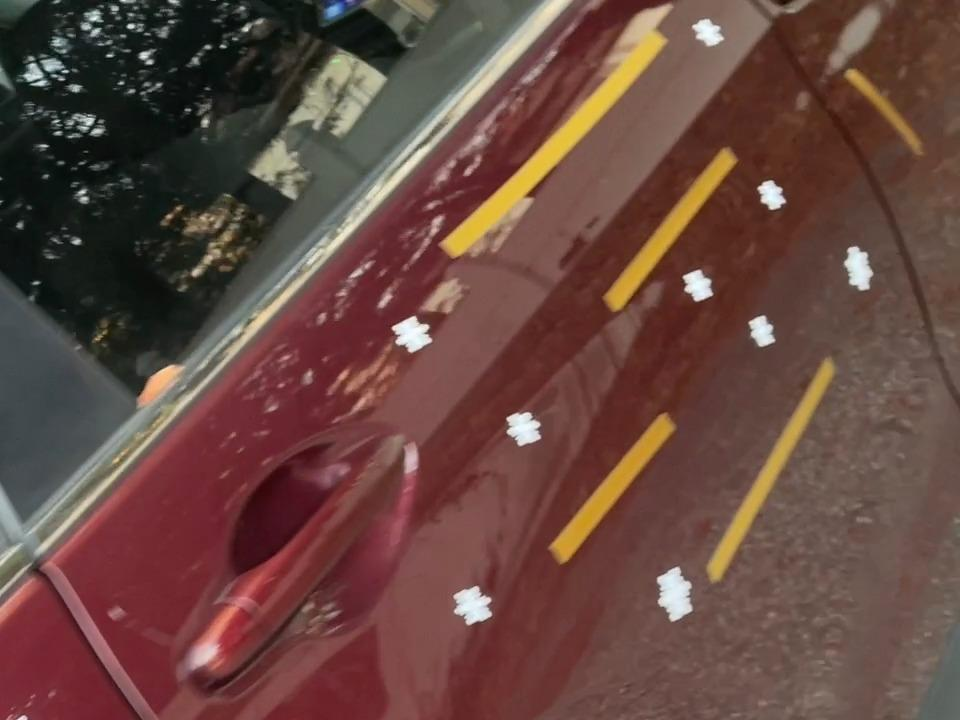dent: (443, 579, 510, 634), (653, 561, 703, 632), (383, 307, 442, 359), (835, 239, 882, 299), (747, 171, 800, 223), (499, 405, 551, 449), (685, 11, 734, 56), (741, 307, 789, 352), (677, 259, 723, 305), (0, 704, 62, 720)
scratch: (427, 17, 672, 264), (705, 355, 843, 597), (601, 140, 749, 321), (539, 399, 679, 565), (839, 51, 939, 171)
